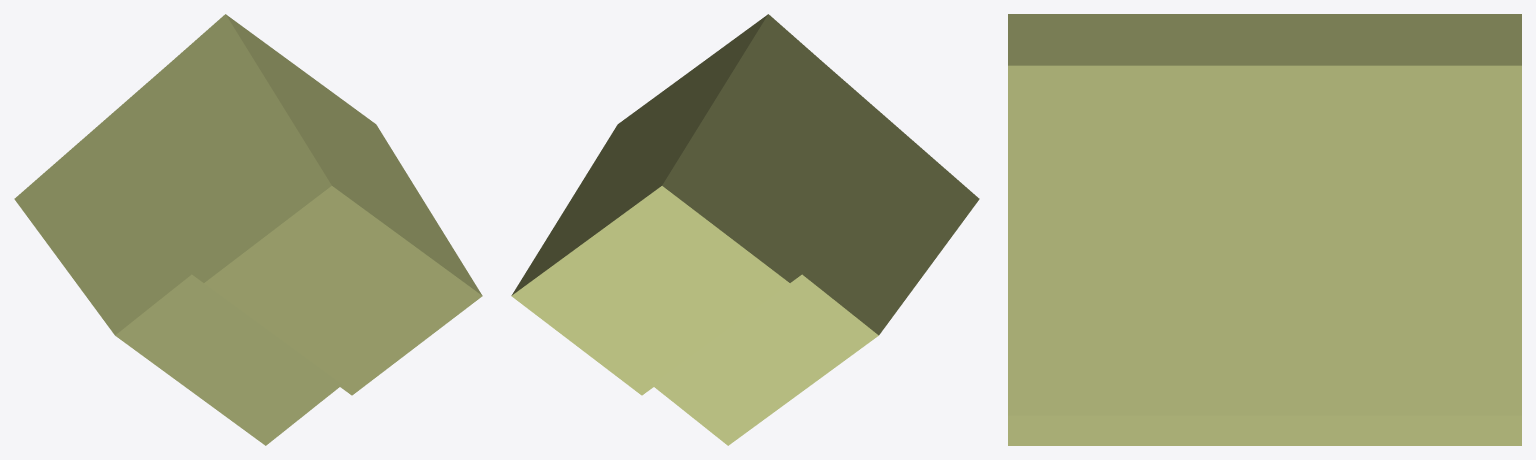
The picture shows the model from 3 angles, left to right: view 1: azimuth 30°, elevation 25°; view 2: azimuth 150°, elevation 25°; view 3: azimuth 270°, elevation 25°; orthographic projection. The views are drawn at different scales.
Parts seen in each view (by area): view 1: 0_1_2_0_3_3_0_2_0_1_1; view 2: 0_1_2_0_3_3_0_2_0_1_1; view 3: 0_1_2_0_3_3_0_2_0_1_1.
Boxes of the visible parts, bbox=[...] form: 0_1_2_0_3_3_0_2_0_1_1: bbox=[14, 14, 482, 445]; 0_1_2_0_3_3_0_2_0_1_1: bbox=[511, 14, 979, 445]; 0_1_2_0_3_3_0_2_0_1_1: bbox=[1008, 14, 1521, 445].
Size of the model in its own units: 10.95 by 9.7 by 9.
